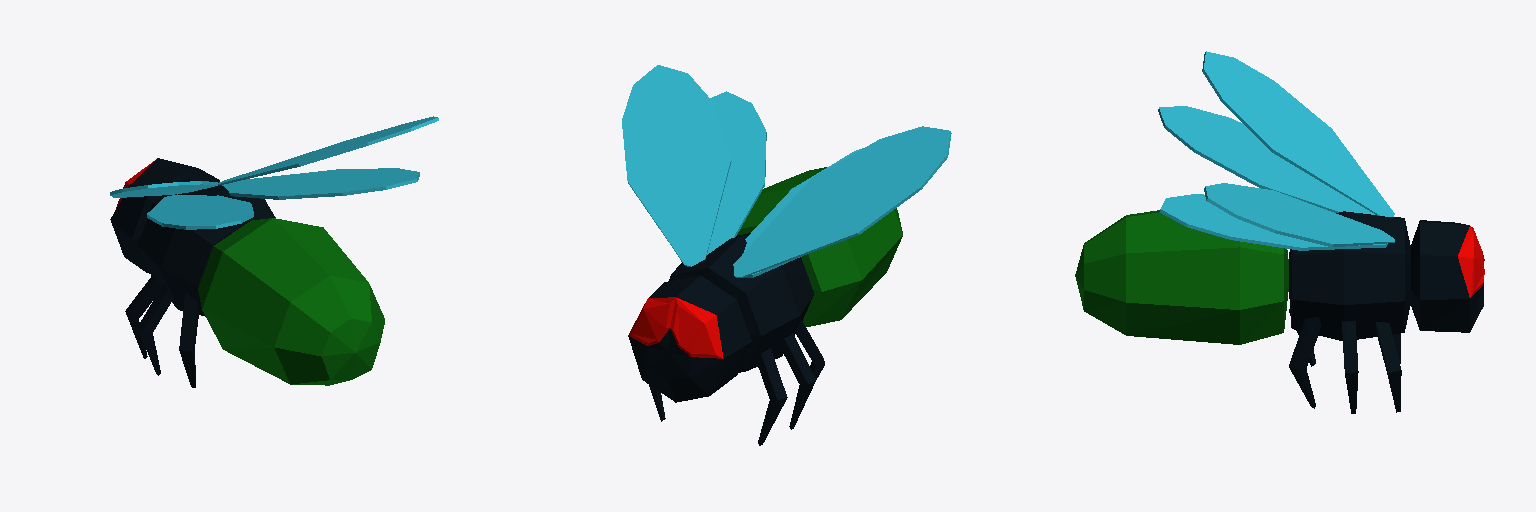
Rendered from Fly_01.obj.
3 renders of one model, left to right at view 1: azimuth 30°, elevation 25°; view 2: azimuth 150°, elevation 25°; view 3: azimuth 270°, elevation 25°, orthographic.
Visible parts, largest first — view 1: Circle.004_Circle.001; view 2: Circle.004_Circle.001; view 3: Circle.004_Circle.001.
Part boxes in pixels (x1,y1,x2,y2): Circle.004_Circle.001: (110,116,438,387); Circle.004_Circle.001: (622,65,951,445); Circle.004_Circle.001: (1075,51,1484,413).
Size of the model in its own units: 6.31 by 5.15 by 7.15.